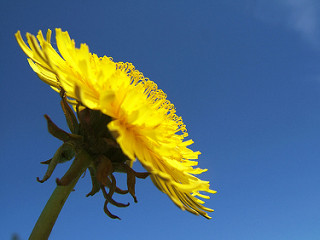dandelion: (10, 19, 229, 232)
